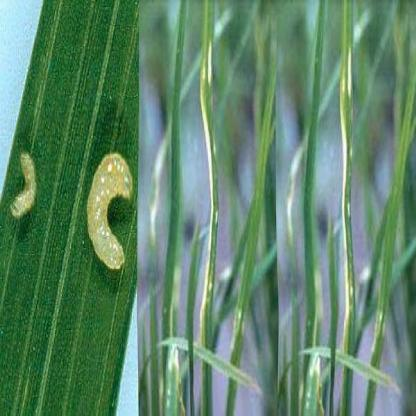whorl-maggot: (84, 149, 138, 270), (7, 145, 40, 221)
